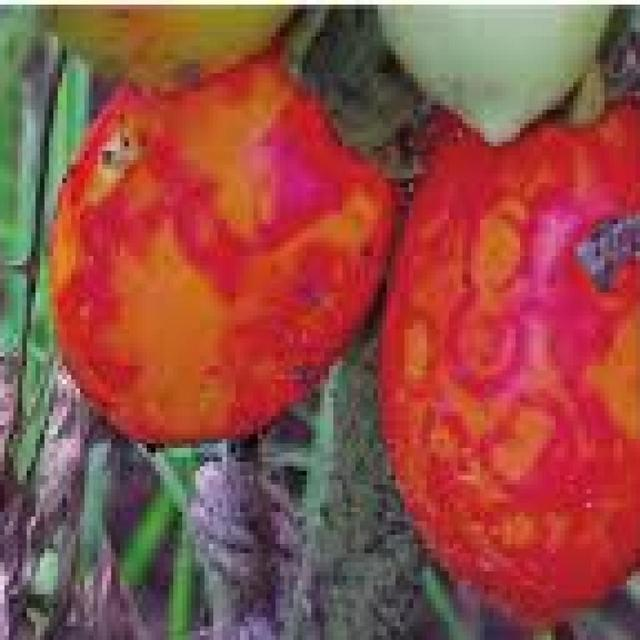Spotted wilt Virus Fruit: (111, 30, 340, 356)
